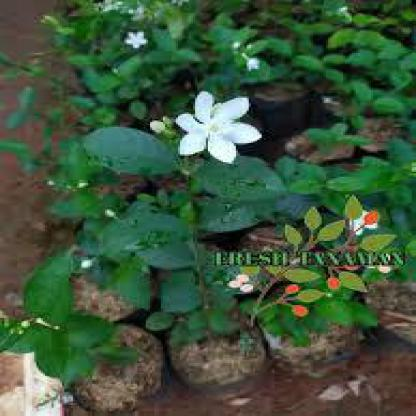Melati: (162, 83, 258, 170)
